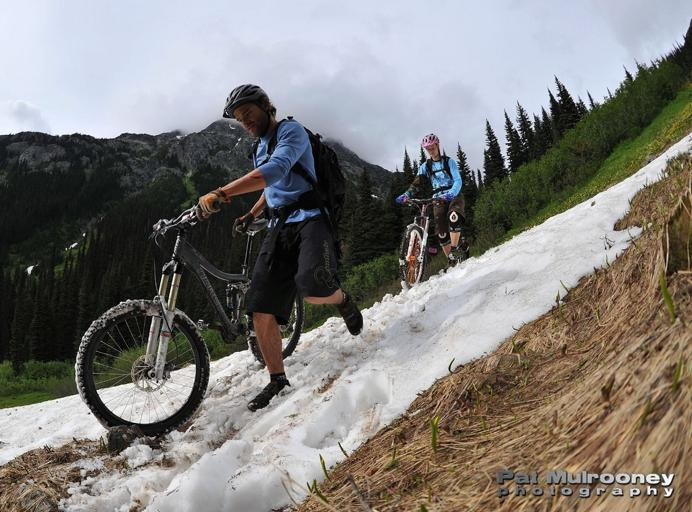non-vehicle: (70, 194, 305, 434), (394, 193, 440, 288)
